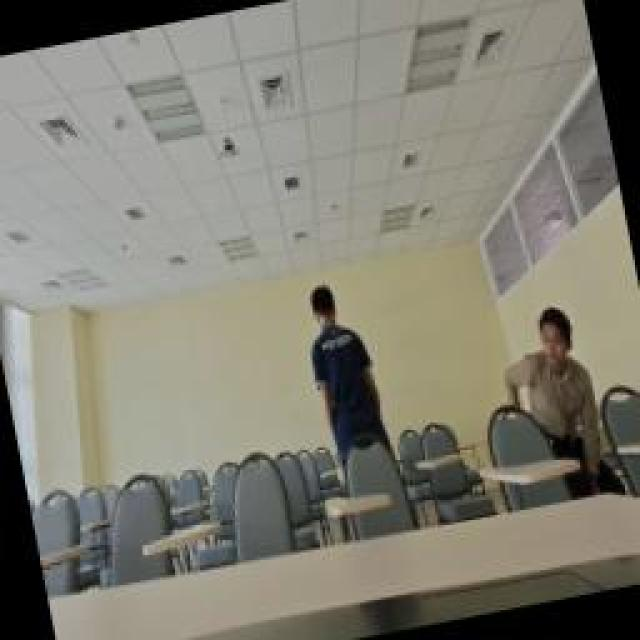study: (502, 292, 612, 472)
